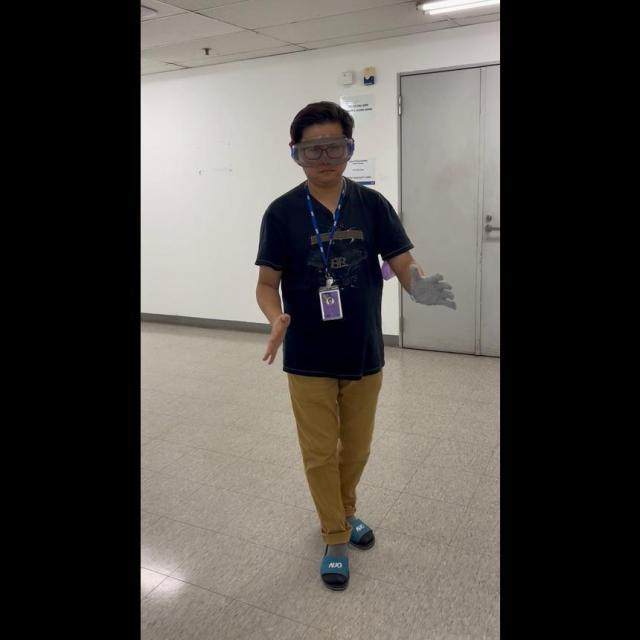bare_hand: (260, 310, 290, 367)
gloved_hand: (403, 262, 455, 311)
